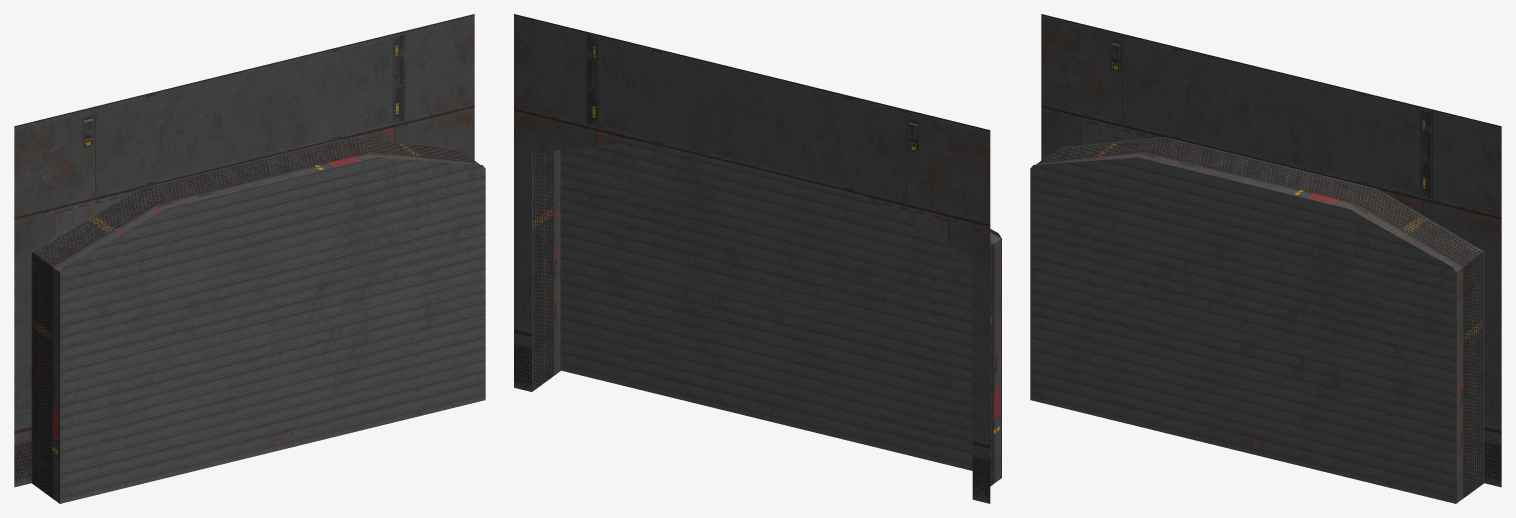
The model's file is ARC0910230.fbx.
3 renders of one model, left to right at view 1: azimuth 30°, elevation 25°; view 2: azimuth 150°, elevation 25°; view 3: azimuth 330°, elevation 25°, orthographic. The views are drawn at different scales.
Parts seen in each view (by area): view 1: smARC0910230; view 2: smARC0910230; view 3: smARC0910230.
Boxes of the visible parts, <box> form: smARC0910230: <box>14,14,485,503</box>; smARC0910230: <box>514,14,1001,503</box>; smARC0910230: <box>1030,14,1501,503</box>.
Bounding box in the file's own units: 400 × 300 × 42.68.
Materials: 1 (1 with a texture image).
